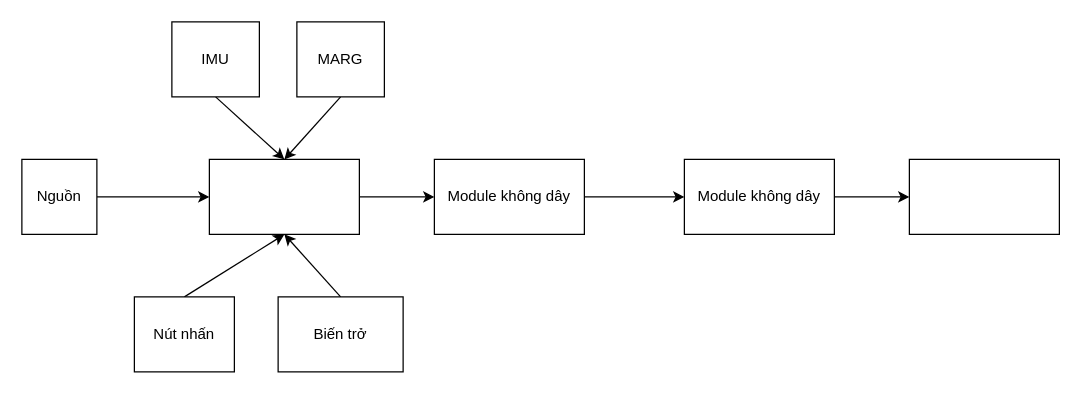
This 1081x394 diagram has some shape labels left out. Each missing label, with the centre of its shape:
PC: (983,196)
Vi điều khiển: (283,196)
